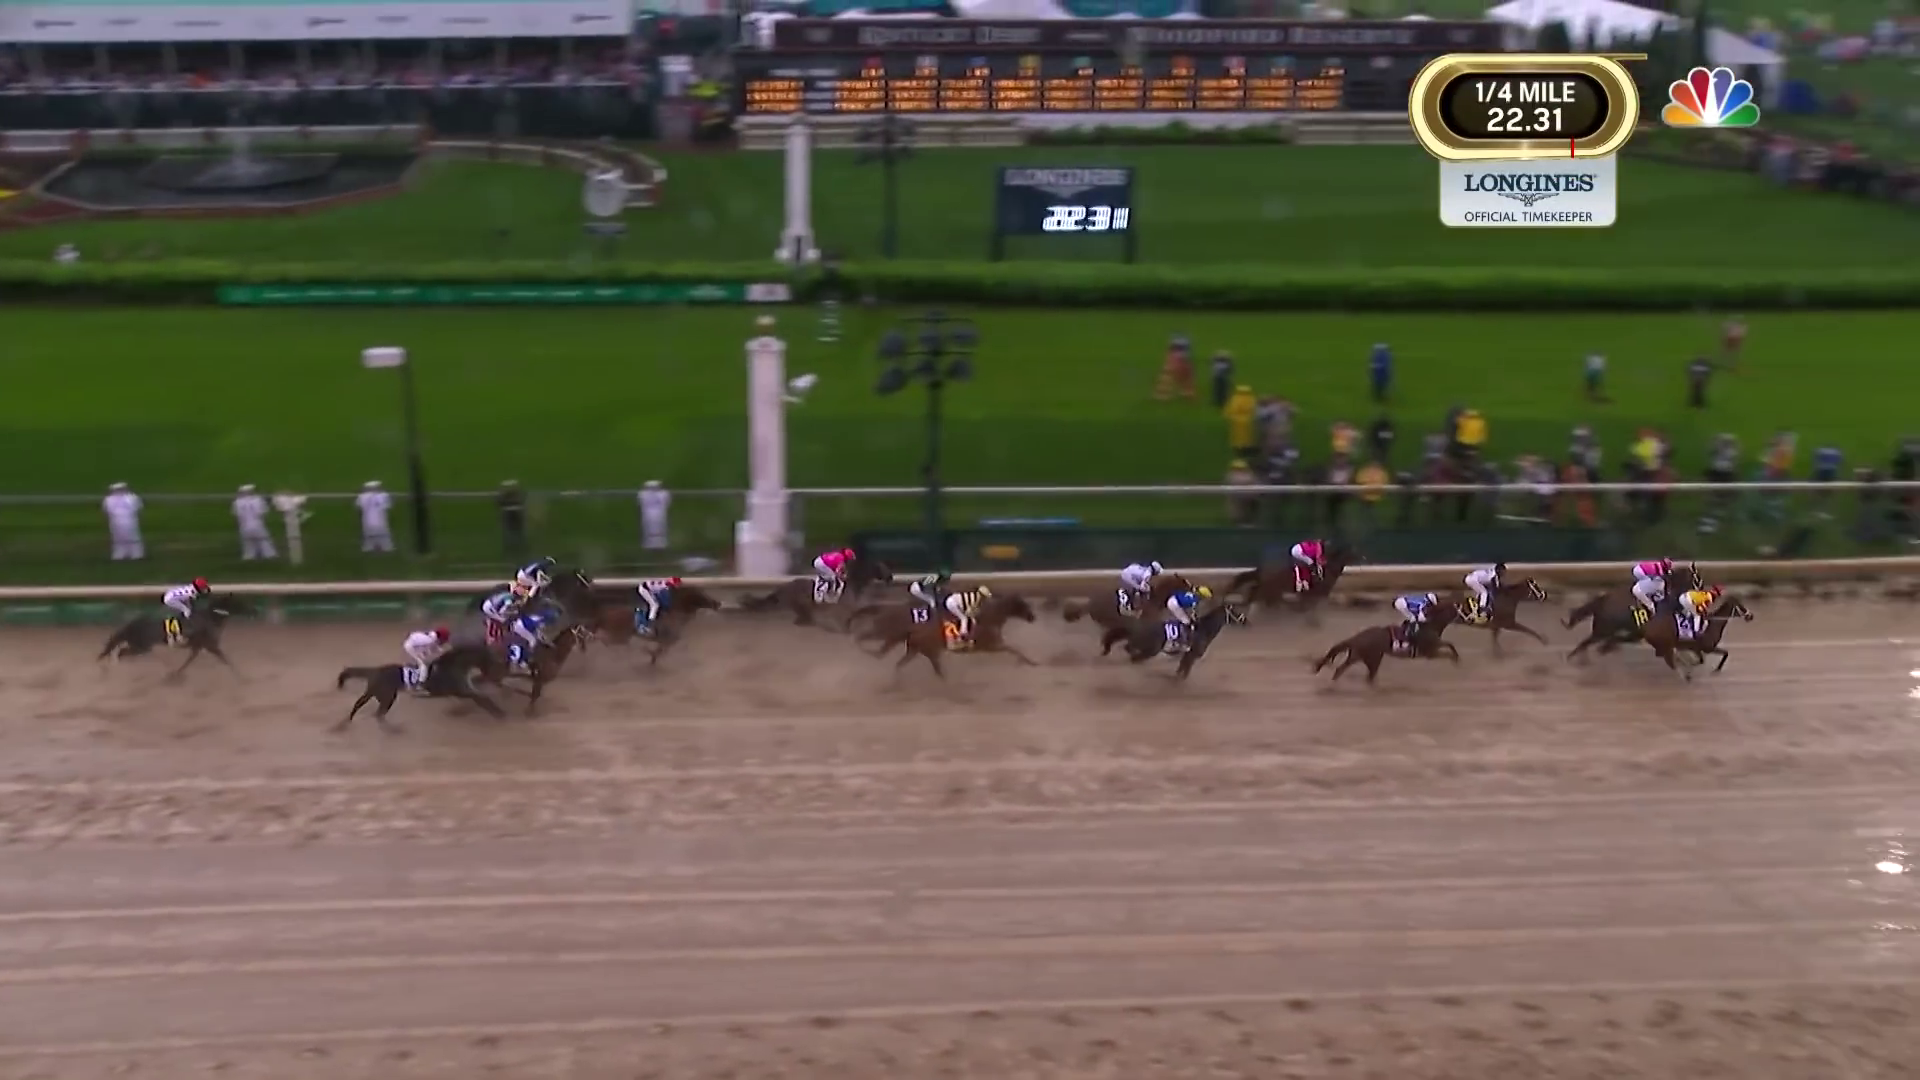jockey: (400, 628, 452, 687), (910, 566, 956, 615), (480, 587, 531, 630), (1394, 593, 1440, 638), (1461, 564, 1505, 611), (1121, 556, 1164, 603), (640, 572, 676, 626), (810, 547, 852, 593), (1290, 535, 1331, 582), (516, 611, 558, 651), (164, 582, 206, 621), (1673, 591, 1724, 622)
